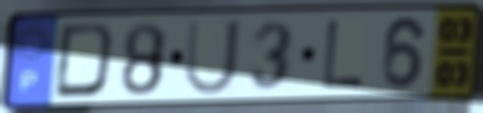3: (248, 19, 297, 93)
6: (379, 14, 429, 92)
8: (120, 20, 169, 97)
D: (51, 20, 119, 101)
L: (319, 18, 367, 91)
U: (182, 17, 243, 98)
